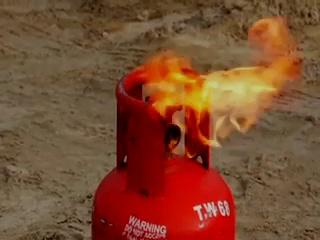Fire: (140, 18, 312, 158)
